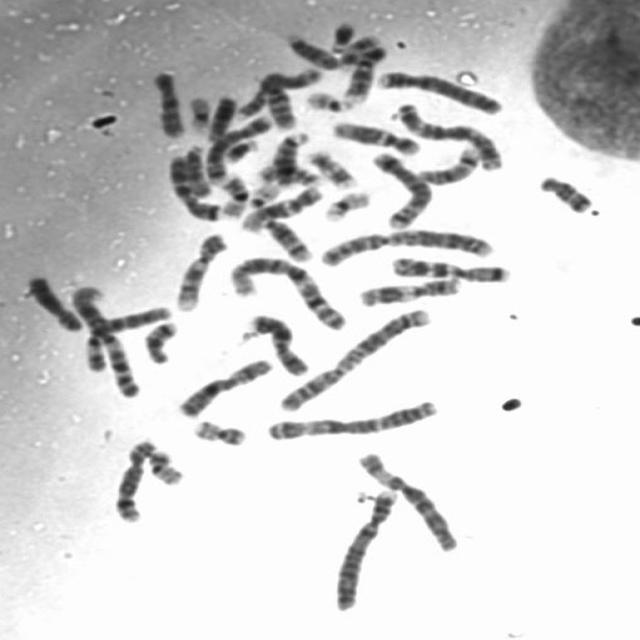A1: (227, 252, 352, 332), (64, 279, 145, 400)
A2: (274, 301, 437, 414), (314, 222, 500, 266)
A3: (390, 95, 510, 173), (260, 392, 443, 442)
B4: (327, 483, 401, 613), (369, 62, 508, 116)
B5: (364, 143, 438, 230), (199, 108, 277, 185)
C10: (146, 64, 190, 140), (256, 68, 300, 131)
C11: (236, 64, 326, 122), (353, 271, 466, 307)
C12: (234, 182, 327, 234), (326, 114, 424, 156)
C6: (351, 443, 463, 553), (79, 300, 175, 374)
C7: (163, 145, 228, 222), (385, 249, 516, 284)
C8: (108, 431, 160, 524), (20, 269, 88, 333)
C9: (169, 225, 233, 313), (337, 36, 391, 104)
D13: (267, 125, 313, 187), (200, 93, 243, 142)
D14: (410, 140, 484, 186), (256, 210, 318, 263)
D15: (280, 28, 344, 71), (183, 143, 213, 200)
E16: (252, 157, 326, 187), (214, 172, 253, 219)
E17: (301, 143, 362, 189), (337, 33, 379, 72)
E18: (531, 167, 599, 215), (139, 314, 183, 364)
F19: (317, 183, 376, 223), (182, 90, 214, 134)
F20: (186, 412, 252, 447), (142, 444, 189, 486)
G21: (323, 13, 361, 53), (218, 133, 262, 163)
G22: (300, 84, 358, 112), (243, 177, 284, 208)
X: (172, 350, 278, 420), (243, 307, 314, 378)
